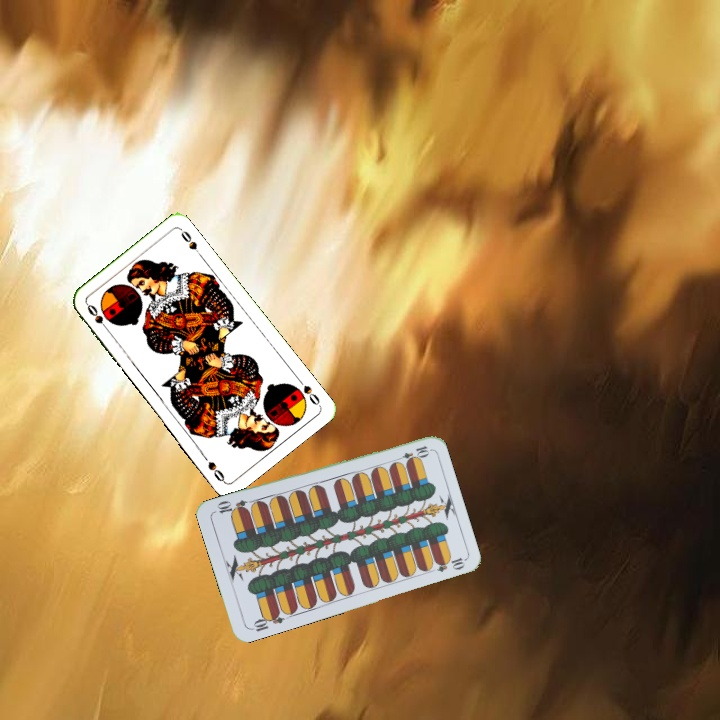E10: (247, 607, 286, 634), (391, 442, 431, 465)
SO: (293, 374, 323, 408), (83, 300, 112, 335)
